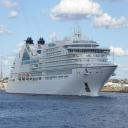cruises: (5, 24, 121, 100)
